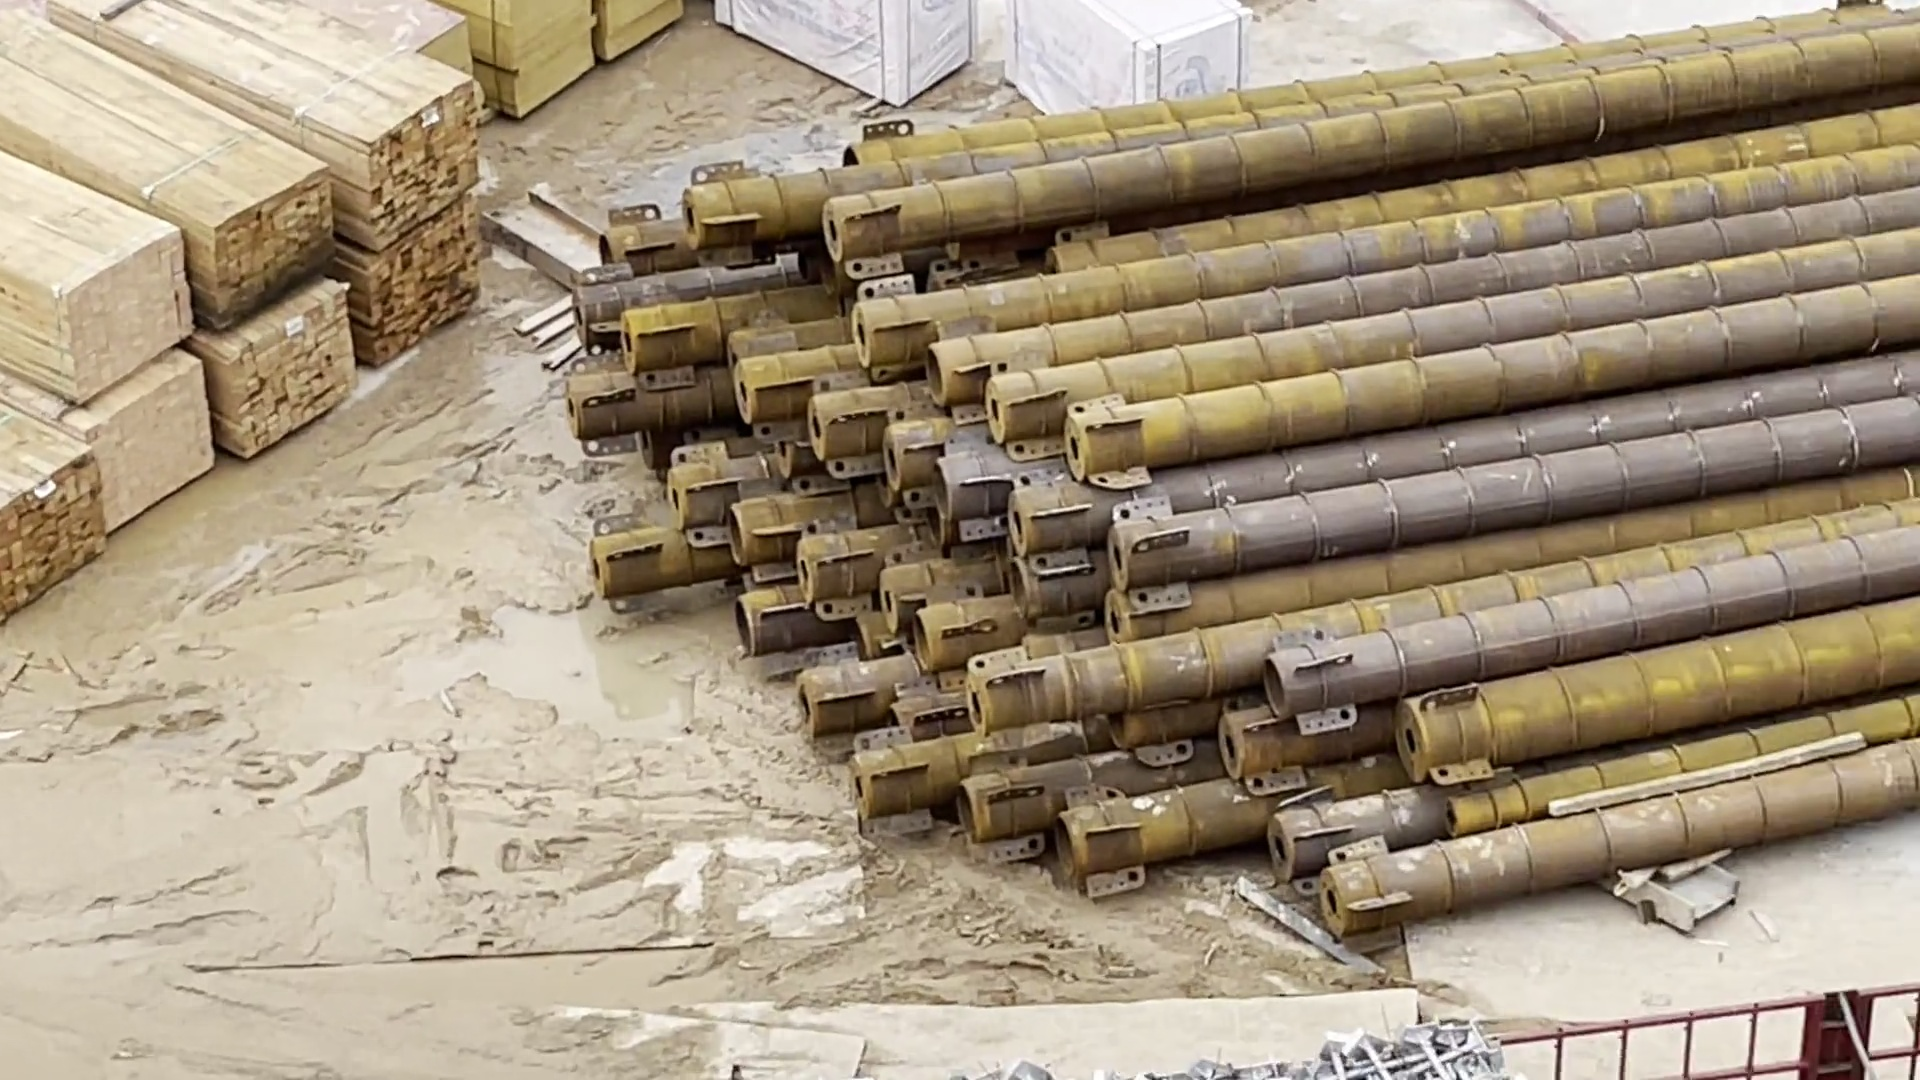wood: (1, 1, 480, 626)
